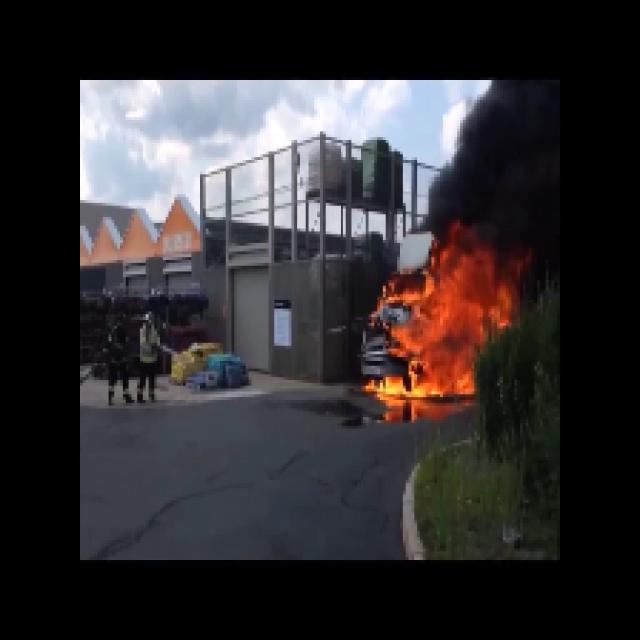fire: (394, 274, 509, 398)
smoke: (456, 104, 560, 255)
